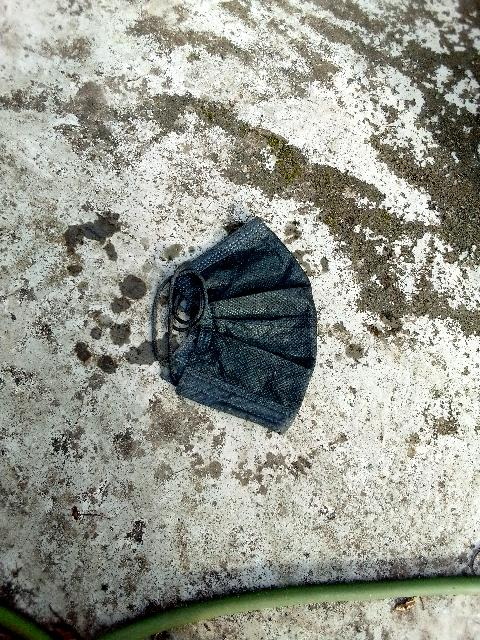mask: (162, 233, 351, 462)
